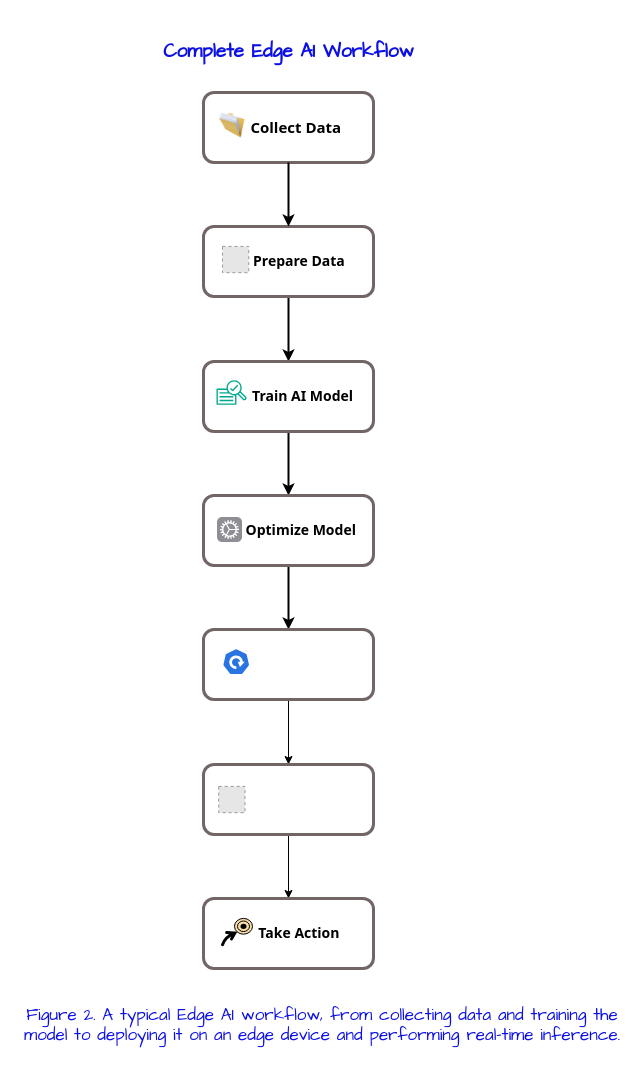
This 644x1065 diagram has some shape labels left out. Grey dashed boxes stand in for pictures. The box of each missing label's shape, as (x1, y1, x2, y2) in pixels:
Deploy to Edge Device: (202, 628, 374, 700)
Run Inference: (202, 762, 374, 836)
